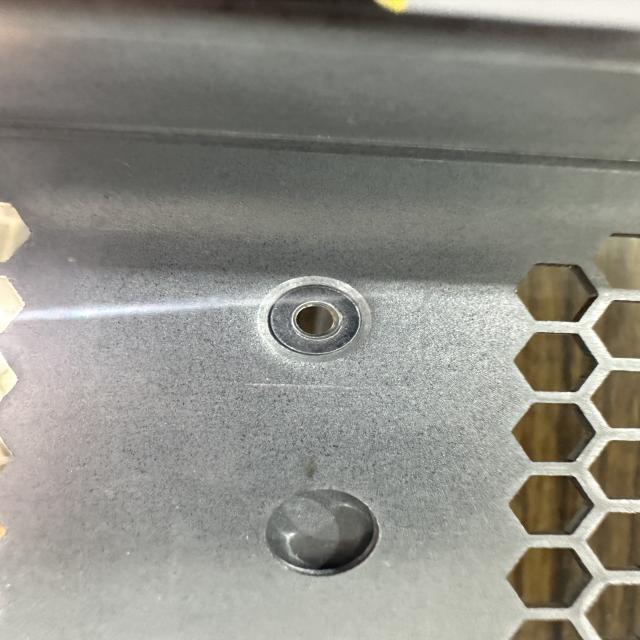Missing screw: (252, 266, 385, 366)
